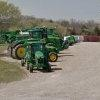Tractor: (13, 22, 67, 78)
